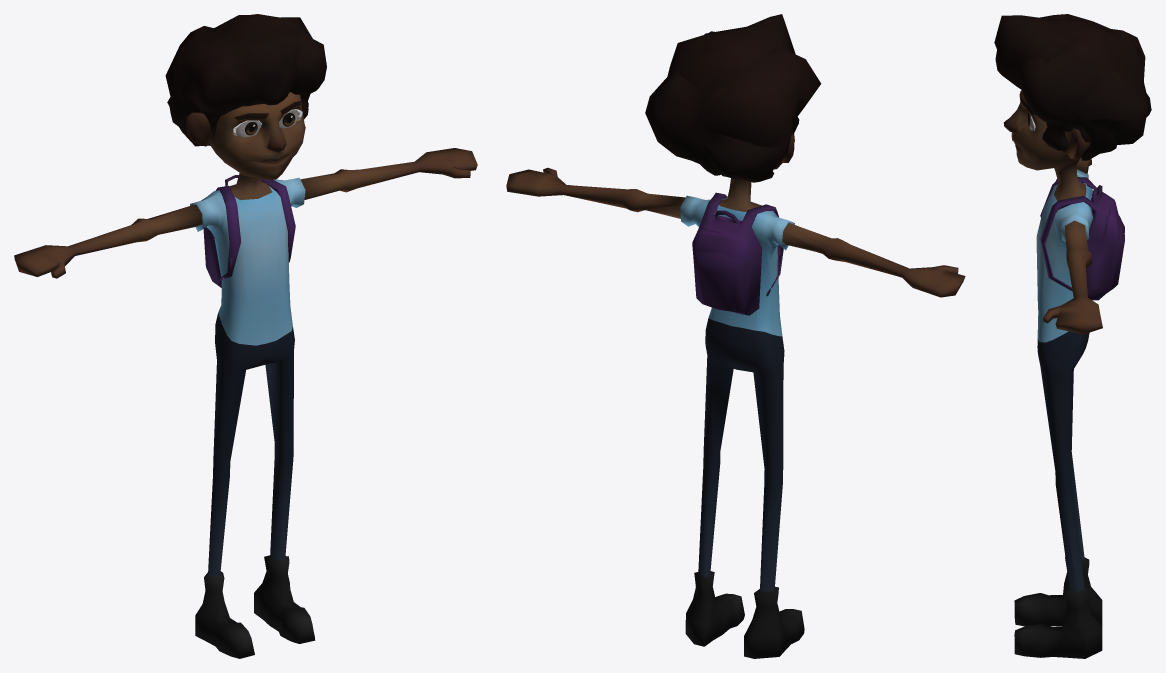
File: Child.fbx
The picture shows the model from 3 angles, left to right: view 1: azimuth 30°, elevation 25°; view 2: azimuth 150°, elevation 25°; view 3: azimuth 270°, elevation 25°; orthographic projection. The views are drawn at different scales.
Parts seen in each view (by area): view 1: Cube.001, GP_Layer.001, Cube.003; view 2: Cube.001, GP_Layer.001, Cube.003; view 3: Cube.001, GP_Layer.001, Cube.003.
Part boxes in pixels (x1=…): Cube.001: x1=14, y1=92, x2=477, y2=658; GP_Layer.001: x1=165, y1=14, x2=326, y2=146; Cube.003: x1=203, y1=175, x2=295, y2=287; Cube.001: x1=506, y1=133, x2=965, y2=658; GP_Layer.001: x1=645, y1=14, x2=821, y2=182; Cube.003: x1=692, y1=192, x2=783, y2=315; Cube.001: x1=1003, y1=90, x2=1102, y2=658; GP_Layer.001: x1=994, y1=14, x2=1151, y2=160; Cube.003: x1=1040, y1=177, x2=1124, y2=300.
Bounding box in the file's own units: 863 × 1106 × 256.
